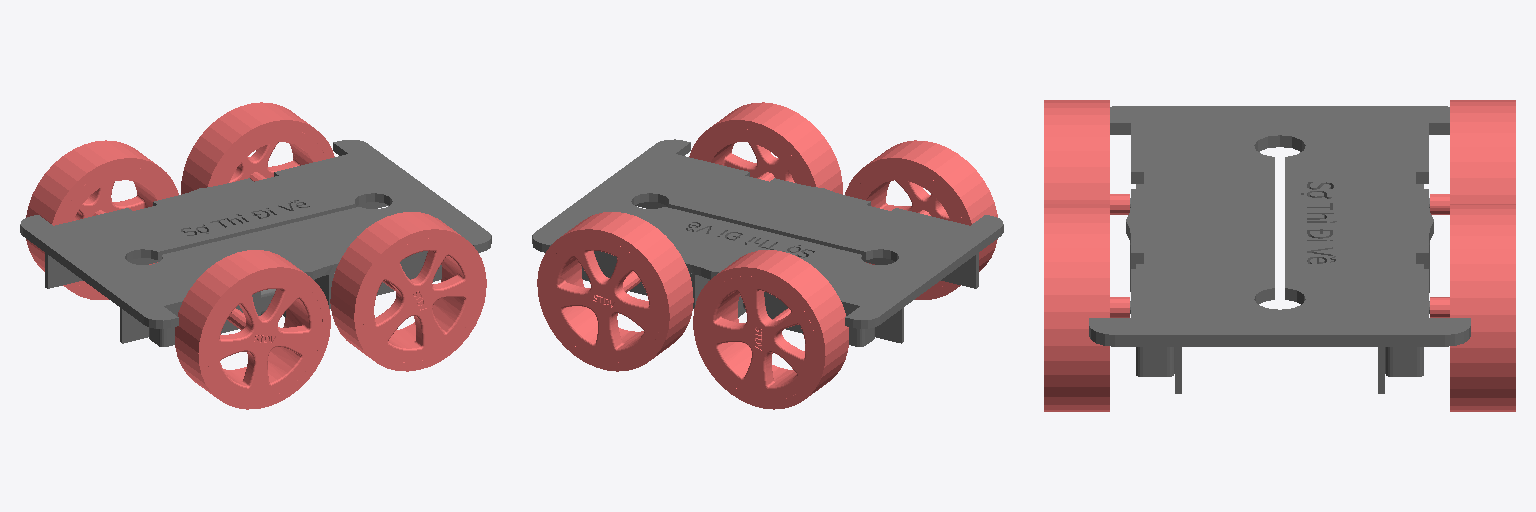
URDF robot description (ROBOT):
<!-- This URDF was automatically created by SolidWorks to URDF Exporter! Originally created by [author] ([email redacted]) 
     Commit Version: 1.6.0-4-g7f85cfe  Build Version: 1.6.7995.38578
     For more information, please see http://wiki.ros.org/sw_urdf_exporter -->
<robot
  name="ROBOT">
  <link
    name="base_link">
    <inertial>
      <origin
        xyz="-0.0199577884172606 0.0146359012632613 0.0464793655395853"
        rpy="0 0 0" />
      <mass
        value="0.223799650582508" />
      <inertia
        ixx="0.000196570907903626"
        ixy="3.05951588883258E-08"
        ixz="2.7126553057441E-08"
        iyy="0.000580171082090499"
        iyz="3.41696945782041E-08"
        izz="0.000762791708898177" />
    </inertial>
    <visual>
      <origin
        xyz="0 0 0"
        rpy="0 0 0" />
      <geometry>
        <mesh
          filename="package://rubupack/meshes/base_link.STL" />
      </geometry>
      <material
        name="">
        <color
          rgba="0.501960784313725 0.501960784313725 0.501960784313725 1" />
      </material>
    </visual>
    <collision>
      <origin
        xyz="0 0 0"
        rpy="0 0 0" />
      <geometry>
        <mesh
          filename="package://rubupack/meshes/base_link.STL" />
      </geometry>
    </collision>
  </link>

  <gazebo reference="base_link">
    <mu1>200</mu1>
    <mu2>200</mu2>
    <kp>1000000</kp>
    <kd>1</kd>
    <material>Gazebo/Yellow</material>
  </gazebo>


  <link
    name="left_a">
    <inertial>
      <origin
        xyz="0.000282178893833676 -0.000370722899637818 -0.0116515652801601"
        rpy="0 0 0" />
      <mass
        value="0.0757432213466125" />
      <inertia
        ixx="4.43465519369207E-05"
        ixy="-6.51017913246205E-09"
        ixz="3.72628673320127E-08"
        iyy="4.44838231783776E-05"
        iyz="-3.80001652125712E-08"
        izz="8.06165999721569E-05" />
    </inertial>
    <visual>
      <origin
        xyz="0 0 0"
        rpy="0 0 0" />
      <geometry>
        <mesh
          filename="package://rubupack/meshes/left_a.STL" />
      </geometry>
      <material
        name="">
        <color
          rgba="1 0.501960784313725 0.501960784313725 1" />
      </material>
    </visual>
    <collision>
      <origin
        xyz="0 0 0"
        rpy="0 0 0" />
      <geometry>
        <mesh
          filename="package://rubupack/meshes/left_a.STL" />
      </geometry>
    </collision>
  </link>
  <joint
    name="joint_left_a"
    type="continuous">
    <origin
      xyz="0.02674 0.1052 0.039559"
      rpy="-1.5708 0 0" />
    <parent
      link="base_link" />
    <child
      link="left_a" />
    <axis
      xyz="0 0 1" />
    <limit
      effort="10"
      velocity="10" />
    <dynamics
      damping="0.1"
      friction="0.1" />
  </joint>

  <gazebo reference="left_a">
    <mu1>200</mu1>
    <mu2>200</mu2>
    <kp>1000000</kp>
    <kd>1</kd>
    <material>Gazebo/Red</material>
  </gazebo>



  <link
    name="right_a">
    <inertial>
      <origin
        xyz="0.000185131208098266 -0.000427535767192805 0.0116515652801601"
        rpy="0 0 0" />
      <mass
        value="0.0757432213466125" />
      <inertia
        ixx="4.44453698934499E-05"
        ixy="-6.19859457516647E-08"
        ixz="-1.48944448592089E-08"
        iyy="4.43850052218483E-05"
        iyz="5.10949053264749E-08"
        izz="8.06165999721569E-05" />
    </inertial>
    <visual>
      <origin
        xyz="0 0 0"
        rpy="0 0 0" />
      <geometry>
        <mesh
          filename="package://rubupack/meshes/right_a.STL" />
      </geometry>
      <material
        name="">
        <color
          rgba="1 0.501960784313725 0.501960784313725 1" />
      </material>
    </visual>
    <collision>
      <origin
        xyz="0 0 0"
        rpy="0 0 0" />
      <geometry>
        <mesh
          filename="package://rubupack/meshes/right_a.STL" />
      </geometry>
    </collision>
  </link>
  <joint
    name="joint_right_a"
    type="continuous">
    <origin
      xyz="0.026879 -0.075838 0.039478"
      rpy="-1.5708 0 0" />
    <parent
      link="base_link" />
    <child
      link="right_a" />
    <axis
      xyz="0 0 1" />
    <limit
      effort="10"
      velocity="10" />
    <dynamics
      damping="0.1"
      friction="0.1" />
  </joint>

  <gazebo reference="right_a">
    <mu1>200</mu1>
    <mu2>200</mu2>
    <kp>1000000</kp>
    <kd>1</kd>
    <material>Gazebo/Red</material>
  </gazebo>

  <link
    name="left_be">
    <inertial>
      <origin
        xyz="-0.000343170269554105 -0.000315110397377175 -0.0116515652801601"
        rpy="0 0 0" />
      <mass
        value="0.0757432213466125" />
      <inertia
        ixx="4.44814661198521E-05"
        ixy="1.89837577266406E-08"
        ixz="-3.44082538048636E-08"
        iyy="4.43489089954461E-05"
        iyz="-4.06030283117753E-08"
        izz="8.06165999721568E-05" />
    </inertial>
    <visual>
      <origin
        xyz="0 0 0"
        rpy="0 0 0" />
      <geometry>
        <mesh
          filename="package://rubupack/meshes/left_be.STL" />
      </geometry>
      <material
        name="">
        <color
          rgba="1 0.501960784313725 0.501960784313725 1" />
      </material>
    </visual>
    <collision>
      <origin
        xyz="0 0 0"
        rpy="0 0 0" />
      <geometry>
        <mesh
          filename="package://rubupack/meshes/left_be.STL" />
      </geometry>
    </collision>
  </link>
  <joint
    name="joint_left_be"
    type="continuous">
    <origin
      xyz="-0.066501 0.1052 0.039609"
      rpy="-1.5708 0 0" />
    <parent
      link="base_link" />
    <child
      link="left_be" />
    <axis
      xyz="0 0 1" />
    <limit
      effort="10"
      velocity="10" />
    <dynamics
      damping="0.1"
      friction="0.1" />
  </joint>

  <gazebo reference="left_be">
    <mu1>100</mu1>
    <mu2>100</mu2>
    <kp>1000000</kp>
    <kd>1</kd>
    <material>Gazebo/Red</material>
  </gazebo>


  <link
    name="right_be">
    <inertial>
      <origin
        xyz="-0.000224013546980081 -0.000408507438378372 0.0116515652801601"
        rpy="0 0 0" />
      <mass
        value="0.0757432213466124" />
      <inertia
        ixx="4.43476659214084E-05"
        ixy="-1.39305242001416E-08"
        ixz="3.12083429587779E-08"
        iyy="4.44827091938899E-05"
        iyz="4.31111721918385E-08"
        izz="8.06165999721568E-05" />
    </inertial>
    <visual>
      <origin
        xyz="0 0 0"
        rpy="0 0 0" />
      <geometry>
        <mesh
          filename="package://rubupack/meshes/right_be.STL" />
      </geometry>
      <material
        name="">
        <color
          rgba="1 0.501960784313725 0.501960784313725 1" />
      </material>
    </visual>
    <collision>
      <origin
        xyz="0 0 0"
        rpy="0 0 0" />
      <geometry>
        <mesh
          filename="package://rubupack/meshes/right_be.STL" />
      </geometry>
    </collision>
  </link>
  <joint
    name="joint_right_be"
    type="continuous">
    <origin
      xyz="-0.066626 -0.075838 0.039511"
      rpy="-1.5708 0 0" />
    <parent
      link="base_link" />
    <child
      link="right_be" />
    <axis
      xyz="0 0 1" />
    <limit
      effort="10"
      velocity="10" />
    <dynamics
      damping="0.1"
      friction="0.1" />
  </joint>

  <gazebo reference="right_be">
    <mu1>200</mu1>
    <mu2>200</mu2>
    <kp>1000000</kp>
    <kd>1</kd>
    <material>Gazebo/Red</material>
  </gazebo>
</robot>

--- Facts derived from the render (not from the file) ---
Views: 3 orthographic renders of the robot side by side, from view 1: azimuth 30°, elevation 25°; view 2: azimuth 150°, elevation 25°; view 3: azimuth 270°, elevation 25°.
Robot: ROBOT — 5 links, 4 joints (4 continuous); root link base_link; default pose: every joint at zero.
Visible links, largest first — view 1: base_link, right_be, right_a, left_be, left_a; view 2: base_link, left_a, left_be, right_be, right_a; view 3: base_link, left_a, right_a, left_be, right_be.
Link boxes in pixels (x1=…): base_link: x1=20, y1=140, x2=491, y2=346; right_be: x1=175, y1=250, x2=330, y2=409; right_a: x1=330, y1=212, x2=486, y2=371; left_be: x1=26, y1=140, x2=178, y2=299; left_a: x1=181, y1=102, x2=334, y2=194; base_link: x1=532, y1=139, x2=1003, y2=346; left_a: x1=537, y1=212, x2=693, y2=371; left_be: x1=693, y1=250, x2=848, y2=409; right_be: x1=845, y1=140, x2=997, y2=299; right_a: x1=689, y1=102, x2=842, y2=194; base_link: x1=1089, y1=106, x2=1470, y2=393; left_a: x1=1430, y1=204, x2=1515, y2=411; right_a: x1=1044, y1=204, x2=1129, y2=411; left_be: x1=1430, y1=100, x2=1515, y2=214; right_be: x1=1044, y1=100, x2=1129, y2=214.
Size in the robot's own frame: 0.208 by 0.181 by 0.08 metres.
Meshes: 5 distinct files referenced, 5 mesh visuals loaded (5 binary STL).